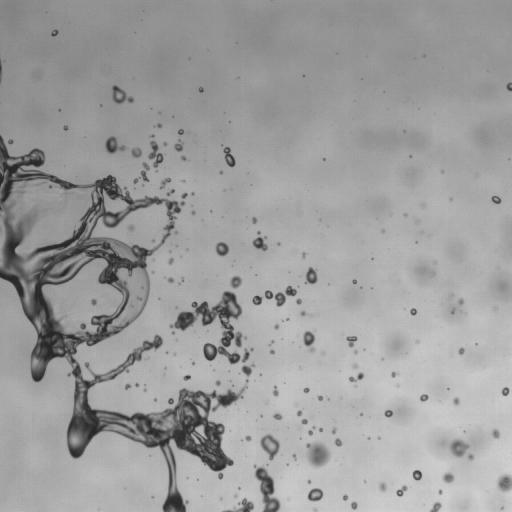droplet: (306, 440, 331, 468), (259, 432, 280, 461), (449, 438, 474, 461), (111, 85, 134, 104), (105, 136, 128, 154), (252, 230, 268, 251), (496, 472, 511, 492), (304, 266, 318, 284), (214, 241, 229, 256), (307, 488, 323, 501), (229, 275, 242, 288), (441, 470, 454, 483), (396, 484, 408, 497), (130, 147, 142, 159), (346, 336, 357, 347), (167, 133, 178, 144), (131, 158, 142, 169), (166, 265, 177, 276), (213, 325, 224, 336), (27, 333, 38, 344), (215, 353, 226, 364), (48, 356, 59, 367), (116, 372, 127, 383), (186, 380, 197, 391), (156, 400, 167, 411), (283, 409, 294, 420), (207, 411, 218, 422), (92, 432, 103, 443), (310, 432, 321, 443), (324, 440, 335, 451), (219, 441, 230, 452), (173, 447, 184, 458), (298, 447, 309, 458), (319, 462, 330, 473), (307, 464, 318, 475), (386, 482, 397, 493), (412, 469, 422, 481), (429, 501, 441, 511), (490, 428, 500, 439), (174, 139, 183, 151), (307, 425, 316, 435), (378, 481, 386, 492), (501, 387, 510, 396), (125, 140, 134, 149), (6, 146, 15, 155), (139, 152, 148, 161), (156, 189, 165, 198), (170, 192, 179, 201), (5, 281, 14, 290), (100, 337, 109, 346), (76, 342, 85, 351), (227, 343, 236, 352), (117, 353, 126, 362), (82, 371, 91, 380), (217, 386, 226, 395), (308, 388, 317, 397), (88, 400, 97, 409), (460, 434, 469, 443), (251, 435, 260, 444), (443, 437, 452, 446), (445, 450, 454, 459), (222, 465, 231, 474), (266, 468, 275, 477), (252, 478, 261, 487), (489, 478, 498, 487), (440, 481, 449, 490), (157, 493, 166, 502), (491, 196, 501, 204), (272, 412, 282, 420), (272, 385, 279, 396), (419, 393, 428, 401), (452, 396, 460, 405), (384, 409, 393, 417), (334, 437, 342, 446), (505, 466, 511, 477), (505, 488, 511, 499), (183, 505, 194, 511), (251, 505, 262, 511), (300, 251, 307, 260), (182, 374, 191, 381), (296, 408, 303, 417), (350, 501, 357, 510), (166, 189, 174, 196), (127, 224, 135, 231), (457, 298, 464, 306), (458, 347, 465, 355), (351, 362, 359, 369), (0, 235, 5, 246), (0, 277, 5, 288), (390, 371, 399, 377), (142, 383, 147, 393), (51, 29, 58, 36), (419, 202, 426, 209), (410, 308, 417, 315), (317, 394, 324, 401), (152, 127, 159, 134), (167, 142, 174, 149), (99, 143, 106, 150), (113, 149, 120, 156), (124, 149, 131, 156), (27, 163, 34, 170), (37, 164, 44, 171), (133, 170, 140, 177), (165, 182, 172, 189), (129, 192, 136, 199), (167, 194, 174, 201), (252, 223, 259, 230), (144, 255, 151, 262), (145, 264, 152, 271), (315, 271, 322, 278), (173, 274, 180, 281), (228, 286, 235, 293), (257, 289, 264, 296), (284, 294, 291, 301), (269, 297, 276, 304), (451, 299, 458, 306), (206, 302, 213, 309), (297, 303, 304, 310), (453, 303, 460, 310), (170, 315, 177, 322), (212, 316, 219, 323), (228, 316, 235, 323), (185, 325, 192, 332), (174, 327, 181, 334), (311, 340, 318, 347), (158, 344, 165, 351), (301, 344, 308, 351), (237, 348, 244, 355), (141, 350, 148, 357), (312, 350, 319, 357), (351, 355, 358, 362), (244, 359, 251, 366), (235, 360, 242, 367), (66, 364, 73, 371), (239, 372, 246, 379), (25, 373, 32, 380), (41, 374, 48, 381), (68, 374, 75, 381), (87, 386, 94, 393), (231, 386, 238, 393), (204, 387, 211, 394), (229, 401, 236, 408), (217, 404, 224, 411), (112, 405, 119, 412), (141, 407, 148, 414), (125, 409, 132, 416), (64, 415, 71, 422), (303, 423, 310, 430), (323, 426, 330, 433), (259, 429, 266, 436), (272, 432, 279, 439), (137, 442, 144, 449), (255, 444, 262, 451), (153, 445, 160, 452), (464, 447, 471, 454), (63, 449, 70, 456), (460, 453, 467, 460), (193, 455, 200, 462), (202, 463, 209, 470), (440, 467, 447, 474), (437, 470, 444, 477), (451, 470, 458, 477), (375, 476, 382, 483), (272, 481, 279, 488), (310, 481, 317, 488), (180, 493, 187, 500), (434, 495, 441, 502), (344, 499, 351, 506), (168, 257, 174, 265), (331, 426, 337, 434), (506, 82, 511, 91), (153, 123, 162, 128), (177, 129, 184, 135), (274, 322, 280, 329), (214, 380, 221, 386), (125, 383, 131, 390), (303, 387, 310, 393), (342, 494, 348, 501), (252, 216, 257, 224), (292, 453, 297, 461), (245, 435, 251, 441), (505, 505, 511, 511), (198, 86, 203, 93), (430, 270, 435, 277), (352, 278, 357, 285), (296, 298, 301, 305), (62, 125, 68, 130), (414, 219, 420, 224), (448, 293, 453, 299), (492, 306, 498, 311), (269, 349, 275, 354), (318, 427, 323, 433), (451, 307, 455, 314), (156, 507, 163, 511), (8, 139, 13, 144), (190, 210, 195, 215), (380, 228, 385, 233), (276, 241, 281, 246), (174, 305, 179, 310), (353, 349, 358, 354), (320, 350, 325, 355), (134, 382, 139, 387), (233, 493, 238, 498), (1, 66, 6, 71), (117, 83, 122, 88), (108, 88, 113, 93), (125, 92, 130, 97), (123, 99, 128, 104), (112, 101, 117, 106), (112, 132, 117, 137), (179, 134, 184, 139), (2, 138, 7, 143), (116, 141, 121, 146), (33, 143, 38, 148), (36, 144, 41, 149), (181, 144, 186, 149), (148, 147, 153, 152), (178, 150, 183, 155), (229, 150, 234, 155), (162, 155, 167, 160), (233, 155, 238, 160), (151, 156, 156, 161), (21, 164, 26, 169), (139, 165, 144, 170), (102, 172, 107, 177), (145, 172, 150, 177), (57, 174, 62, 179), (159, 175, 164, 180), (90, 178, 95, 183), (71, 179, 76, 184), (115, 179, 120, 184), (156, 181, 161, 186), (149, 193, 154, 198), (183, 196, 188, 201), (179, 205, 184, 210), (192, 205, 197, 210), (172, 211, 177, 216), (255, 215, 260, 220), (247, 217, 252, 222), (173, 222, 178, 227), (169, 228, 174, 233), (259, 232, 264, 237), (253, 233, 258, 238), (164, 237, 169, 242), (262, 239, 267, 244), (224, 240, 229, 245), (211, 242, 216, 247), (227, 245, 232, 250), (257, 247, 262, 252), (152, 250, 157, 255), (212, 250, 217, 255), (166, 253, 171, 258), (223, 253, 228, 258), (217, 254, 222, 259), (163, 257, 168, 262), (172, 259, 177, 264), (303, 267, 308, 272), (233, 271, 238, 276), (147, 272, 152, 277), (166, 272, 171, 277), (229, 272, 234, 277), (162, 278, 167, 283), (172, 280, 177, 285), (355, 281, 360, 286), (149, 282, 154, 287), (306, 282, 311, 287), (311, 282, 316, 287), (291, 284, 296, 289), (148, 288, 153, 293), (271, 290, 276, 295), (293, 294, 298, 299), (261, 296, 266, 301), (463, 298, 468, 303), (196, 300, 201, 305), (145, 301, 150, 306), (257, 303, 262, 308), (460, 303, 465, 308), (17, 304, 22, 309), (143, 305, 148, 310), (304, 308, 309, 313), (405, 308, 410, 313), (240, 310, 245, 315), (139, 312, 144, 317), (197, 313, 202, 318), (237, 314, 242, 319), (303, 314, 308, 319), (133, 318, 138, 323), (25, 319, 30, 324), (276, 319, 281, 324), (127, 323, 132, 328), (205, 323, 210, 328), (123, 326, 128, 331), (277, 326, 282, 331), (308, 327, 313, 332), (231, 328, 236, 333), (272, 328, 277, 333), (240, 330, 245, 335), (312, 331, 317, 336), (348, 331, 353, 336), (160, 334, 165, 339), (313, 334, 318, 339), (273, 336, 278, 341), (148, 337, 153, 342), (202, 338, 207, 343), (299, 339, 304, 344), (95, 341, 100, 346), (137, 342, 142, 347), (459, 342, 464, 347), (270, 344, 275, 349), (28, 345, 33, 350), (265, 346, 270, 351), (349, 346, 354, 351), (454, 346, 459, 351), (127, 348, 132, 353), (462, 350, 467, 355), (167, 351, 172, 356), (248, 351, 253, 356), (199, 352, 204, 357), (215, 352, 220, 357), (72, 353, 77, 358), (133, 359, 138, 364), (209, 359, 214, 364), (88, 363, 93, 368), (112, 363, 117, 368), (127, 364, 132, 369), (250, 366, 255, 371), (393, 367, 398, 372), (94, 369, 99, 374), (121, 370, 126, 375), (183, 370, 188, 375), (26, 371, 31, 376), (352, 373, 357, 378), (115, 374, 120, 379), (214, 375, 219, 380), (361, 376, 366, 381), (129, 381, 134, 386), (246, 381, 251, 386), (138, 383, 143, 388), (70, 384, 75, 389), (130, 384, 135, 389), (276, 386, 281, 391), (497, 386, 502, 391), (417, 390, 422, 395), (268, 391, 273, 396), (415, 394, 420, 399), (458, 397, 463, 402), (424, 399, 429, 404), (448, 399, 453, 404), (172, 400, 177, 405), (169, 403, 174, 408), (296, 405, 301, 410), (107, 406, 112, 411), (274, 408, 279, 413), (292, 408, 297, 413), (270, 409, 275, 414), (279, 410, 284, 415), (299, 414, 304, 419), (385, 416, 390, 421), (273, 418, 278, 423), (497, 427, 502, 432), (312, 428, 317, 433), (303, 431, 308, 436), (332, 433, 337, 438), (118, 434, 123, 439), (371, 434, 376, 439), (488, 434, 493, 439), (339, 436, 344, 441), (125, 437, 130, 442), (493, 437, 498, 442), (242, 439, 247, 444), (273, 453, 278, 458), (473, 453, 478, 458), (288, 456, 293, 461), (232, 458, 237, 463), (471, 458, 476, 463), (256, 462, 261, 467), (224, 464, 229, 469), (415, 465, 420, 470), (251, 467, 256, 472), (163, 468, 168, 473), (220, 468, 225, 473), (213, 470, 218, 475), (420, 474, 425, 479), (164, 477, 169, 482), (415, 479, 420, 484), (374, 483, 379, 488), (396, 484, 401, 489), (320, 486, 325, 491), (305, 487, 310, 492), (378, 490, 383, 495), (303, 491, 308, 496), (237, 496, 242, 501), (246, 496, 251, 501), (319, 497, 324, 502), (314, 499, 319, 504), (227, 504, 232, 509), (428, 504, 433, 509), (180, 179, 186, 183), (144, 356, 150, 360), (438, 489, 442, 495), (163, 141, 167, 146), (150, 270, 155, 274), (285, 316, 289, 321), (415, 339, 419, 344), (165, 350, 170, 354), (153, 397, 157, 402), (307, 479, 311, 484), (440, 169, 444, 173), (219, 170, 223, 174), (449, 197, 453, 201), (403, 213, 407, 217), (151, 238, 155, 242), (151, 258, 155, 262), (433, 260, 437, 264), (171, 331, 175, 335), (380, 357, 384, 361), (298, 366, 302, 370), (395, 383, 399, 387), (326, 396, 330, 400), (359, 412, 363, 416), (237, 486, 241, 490), (313, 507, 317, 511), (500, 506, 503, 511), (508, 90, 511, 95), (508, 388, 511, 393), (276, 508, 281, 511), (349, 508, 354, 511), (353, 508, 358, 511), (437, 508, 442, 511), (495, 508, 500, 511), (403, 129, 406, 133), (409, 154, 412, 158), (322, 157, 325, 161), (190, 192, 194, 195), (168, 249, 171, 253), (157, 297, 161, 300), (173, 352, 176, 356), (446, 387, 450, 390), (377, 436, 381, 439), (363, 479, 366, 483), (422, 54, 425, 57), (302, 74, 305, 77), (99, 104, 102, 107), (58, 108, 61, 111), (158, 111, 161, 114), (228, 120, 231, 123), (318, 218, 321, 221), (175, 244, 178, 247), (359, 286, 362, 289), (475, 342, 478, 345), (164, 366, 167, 369), (212, 368, 215, 371), (162, 373, 165, 376), (259, 373, 262, 376), (260, 414, 263, 417), (367, 436, 370, 439), (286, 463, 289, 466), (186, 476, 189, 479), (151, 495, 154, 498), (287, 497, 290, 500), (54, 26, 57, 29), (48, 31, 51, 34), (56, 33, 59, 36), (52, 35, 55, 38), (303, 71, 306, 74), (299, 72, 302, 75), (300, 76, 303, 79), (0, 78, 3, 81), (202, 87, 205, 90), (196, 90, 199, 93), (99, 100, 102, 103), (96, 104, 99, 107), (55, 106, 58, 109), (60, 109, 63, 112), (57, 111, 60, 114), (158, 120, 161, 123), (64, 122, 67, 125), (60, 124, 63, 127), (67, 125, 70, 128), (175, 128, 178, 131), (62, 129, 65, 132), (65, 129, 68, 132), (183, 129, 186, 132), (149, 131, 152, 134), (149, 137, 152, 140), (221, 145, 224, 148), (411, 153, 414, 156), (322, 154, 325, 157), (185, 156, 188, 159), (325, 157, 328, 160), (408, 157, 411, 160), (319, 158, 322, 161), (180, 159, 183, 162), (216, 170, 219, 173), (111, 173, 114, 176), (167, 174, 170, 177), (180, 176, 183, 179), (185, 178, 188, 181), (144, 180, 147, 183), (194, 192, 197, 195), (492, 192, 495, 195), (498, 195, 501, 198), (488, 197, 491, 200), (490, 200, 493, 203), (493, 202, 496, 205), (211, 208, 214, 211), (194, 209, 197, 212), (207, 211, 210, 214), (194, 212, 197, 215), (191, 214, 194, 217), (415, 237, 418, 240), (278, 239, 281, 242), (417, 240, 420, 243), (414, 243, 417, 246), (277, 245, 280, 248), (264, 249, 267, 252), (304, 249, 307, 252), (368, 255, 371, 258), (371, 259, 374, 262), (254, 270, 257, 273), (178, 278, 181, 281), (183, 278, 186, 281), (349, 281, 352, 284), (265, 287, 268, 290), (359, 288, 362, 291), (368, 288, 371, 291), (371, 288, 374, 291), (156, 299, 159, 302), (249, 300, 252, 303), (414, 306, 417, 309), (449, 307, 452, 310), (453, 309, 456, 312), (414, 313, 417, 316), (450, 313, 453, 316), (285, 314, 288, 317), (411, 314, 414, 317), (282, 317, 285, 320), (289, 317, 292, 320), (286, 320, 289, 323), (272, 322, 275, 325), (270, 336, 273, 339), (343, 336, 346, 339), (475, 339, 478, 342), (267, 340, 270, 343), (345, 340, 348, 343), (471, 342, 474, 345), (477, 342, 480, 345), (164, 353, 167, 356), (270, 353, 273, 356), (378, 355, 381, 358), (383, 358, 386, 361), (380, 360, 383, 363), (194, 362, 197, 365), (162, 369, 165, 372), (388, 371, 391, 374), (261, 372, 264, 375), (190, 375, 193, 378), (259, 375, 262, 378), (187, 378, 190, 381), (143, 380, 146, 383), (351, 381, 354, 384), (305, 384, 308, 387), (447, 384, 450, 387), (502, 384, 505, 387), (145, 385, 148, 388), (127, 387, 130, 390), (146, 388, 149, 391), (244, 388, 247, 391), (300, 388, 303, 391), (445, 389, 448, 392), (307, 390, 310, 393), (423, 391, 426, 394), (318, 392, 321, 395), (499, 392, 502, 395), (327, 394, 330, 397), (151, 395, 154, 398), (273, 395, 276, 398), (503, 395, 506, 398), (314, 396, 317, 399), (322, 396, 325, 399), (421, 400, 424, 403), (384, 407, 387, 410), (388, 407, 391, 410), (391, 409, 394, 412), (356, 412, 359, 415), (362, 412, 365, 415), (262, 414, 265, 417), (360, 415, 363, 418), (383, 415, 386, 418), (257, 416, 260, 419), (221, 421, 224, 424), (319, 424, 322, 427), (329, 427, 332, 430), (460, 427, 463, 430), (464, 427, 467, 430), (322, 428, 325, 431), (246, 432, 249, 435), (364, 434, 367, 437), (379, 434, 382, 437), (296, 435, 299, 438), (242, 437, 245, 440), (367, 439, 370, 442), (377, 439, 380, 442), (238, 440, 241, 443), (290, 451, 293, 454), (295, 454, 298, 457), (295, 460, 298, 463), (283, 463, 286, 466), (420, 470, 423, 473), (409, 472, 412, 475), (187, 473, 190, 476), (193, 477, 196, 480), (198, 477, 201, 480), (411, 477, 414, 480), (365, 478, 368, 481), (304, 479, 307, 482), (360, 480, 363, 483), (239, 484, 242, 487), (235, 488, 238, 491), (435, 489, 438, 492), (441, 490, 444, 493), (149, 492, 152, 495), (394, 493, 397, 496), (339, 495, 342, 498), (341, 499, 344, 502), (356, 504, 359, 507), (498, 504, 501, 507), (298, 275, 302, 277), (236, 76, 239, 78), (191, 204, 193, 207), (210, 209, 212, 212), (415, 240, 417, 243), (186, 248, 188, 251), (370, 287, 373, 289), (281, 319, 283, 322), (175, 338, 177, 341), (292, 341, 295, 343), (363, 348, 365, 351), (196, 478, 198, 481), (220, 497, 222, 500), (509, 79, 511, 82), (509, 155, 511, 158), (509, 158, 511, 161), (500, 509, 503, 511), (188, 57, 190, 59), (508, 158, 510, 160), (223, 189, 225, 191), (201, 219, 203, 221), (371, 257, 373, 259), (255, 274, 257, 276), (328, 283, 330, 285), (297, 285, 299, 287), (228, 370, 230, 372), (229, 380, 231, 382), (232, 384, 234, 386), (463, 430, 465, 432), (299, 437, 301, 439), (240, 439, 242, 441), (149, 454, 151, 456), (266, 463, 268, 465), (200, 495, 202, 497), (172, 116, 174, 117), (221, 144, 222, 146), (288, 271, 290, 272), (281, 338, 283, 339), (256, 419, 257, 421), (281, 454, 282, 455)
ligament: (251, 285, 297, 308), (221, 497, 255, 511), (302, 328, 316, 353), (223, 146, 235, 167), (296, 418, 308, 431), (159, 177, 171, 189), (0, 58, 5, 85), (299, 310, 313, 317), (163, 276, 174, 283), (177, 276, 184, 285), (180, 155, 189, 161), (268, 339, 275, 346), (190, 358, 195, 365), (60, 305, 64, 312), (149, 134, 155, 138), (0, 227, 2, 234), (208, 364, 211, 366), (134, 187, 135, 190)
